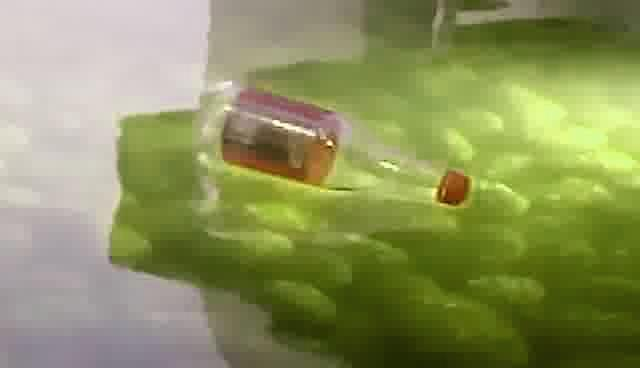Plastic: (189, 67, 478, 214)
